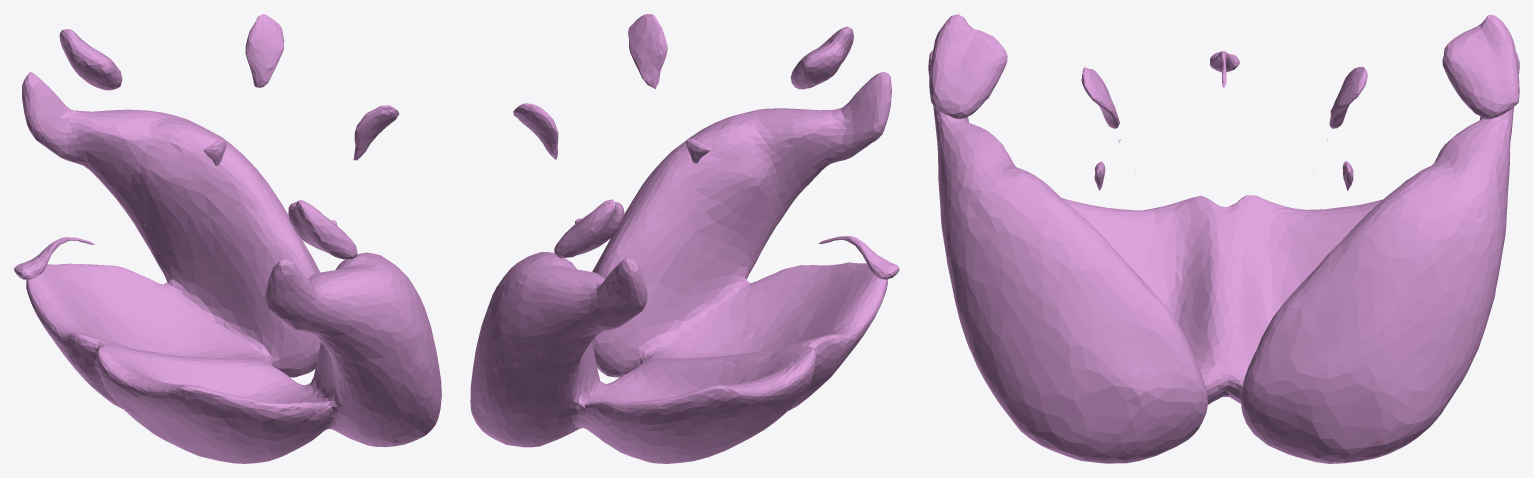
The picture shows the model from 3 angles, left to right: view 1: azimuth 30°, elevation 25°; view 2: azimuth 150°, elevation 25°; view 3: azimuth 270°, elevation 25°; orthographic projection. The views are drawn at different scales.
Visible parts, largest first — view 1: 339.obj; view 2: 339.obj; view 3: 339.obj.
Part boxes in pixels (x1,y1,x2,y2): 339.obj: (14,14,441,463); 339.obj: (470,14,899,463); 339.obj: (928,14,1519,463).
Size of the model in its own units: 3499 by 3332 by 4509.
